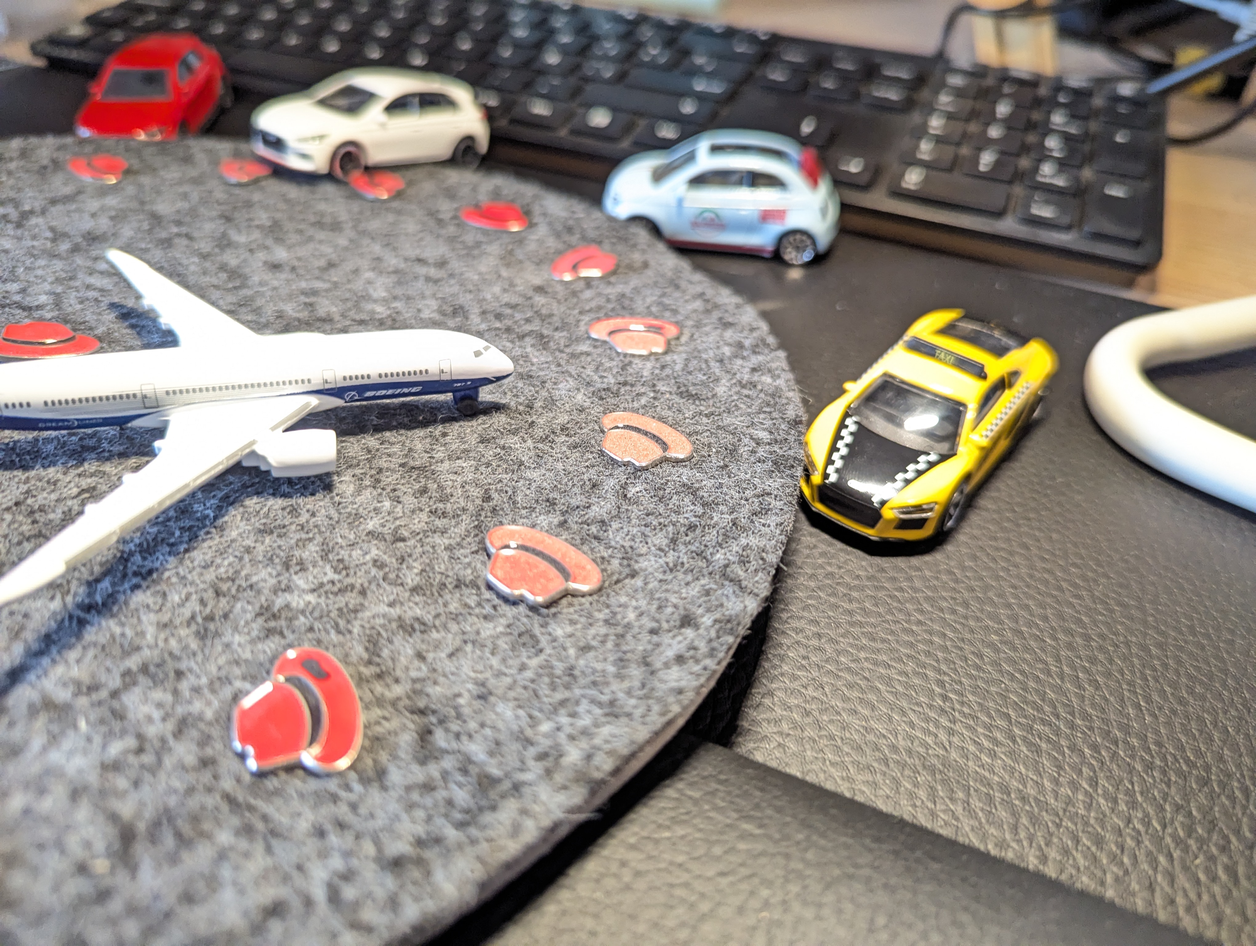Airplane: (0, 233, 525, 626)
Car: (768, 292, 1078, 555), (587, 102, 846, 284), (244, 43, 500, 185), (70, 21, 229, 166)
Red-Hat: (221, 619, 380, 802), (466, 507, 614, 620), (582, 393, 706, 478), (437, 178, 543, 245), (581, 306, 691, 366), (0, 311, 112, 369), (545, 230, 633, 296), (49, 142, 147, 195), (340, 152, 417, 211), (209, 148, 276, 189)
Scratch: (291, 645, 346, 696), (641, 315, 666, 338)
